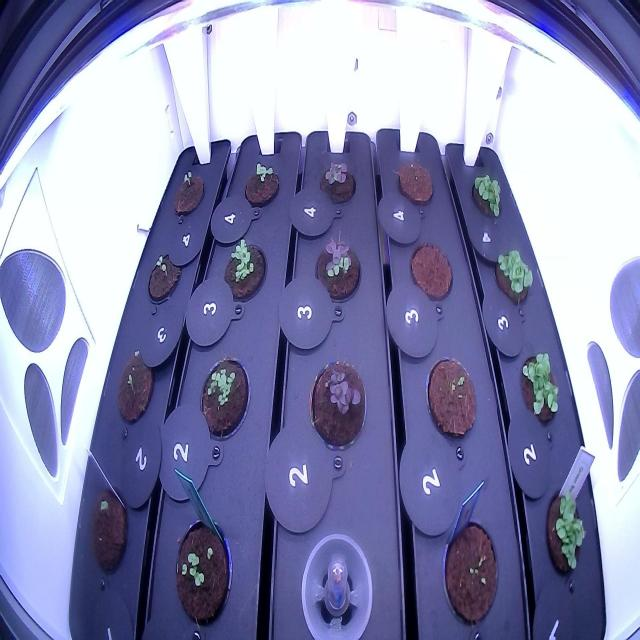germination: (436, 509, 502, 632), (170, 511, 234, 635), (305, 351, 371, 460), (421, 351, 481, 448), (541, 482, 592, 589), (198, 348, 252, 447), (308, 224, 365, 312), (515, 342, 566, 438), (85, 489, 131, 582), (113, 342, 156, 432), (221, 230, 268, 306), (490, 242, 538, 316), (312, 152, 362, 212), (466, 165, 510, 225), (240, 152, 285, 210), (146, 242, 184, 310), (169, 166, 207, 224)
pod: (406, 237, 456, 305), (392, 152, 442, 214)
